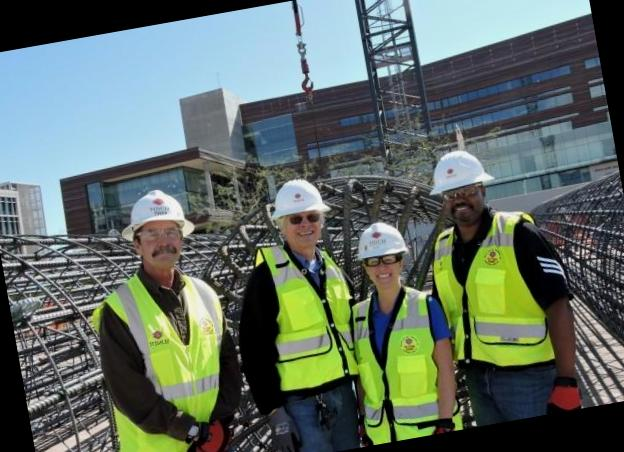helmet: (110, 180, 202, 258), (418, 140, 502, 208), (259, 168, 336, 236), (346, 213, 417, 274)
person: (409, 130, 595, 430), (67, 176, 257, 452), (209, 166, 379, 452), (323, 210, 468, 446)
